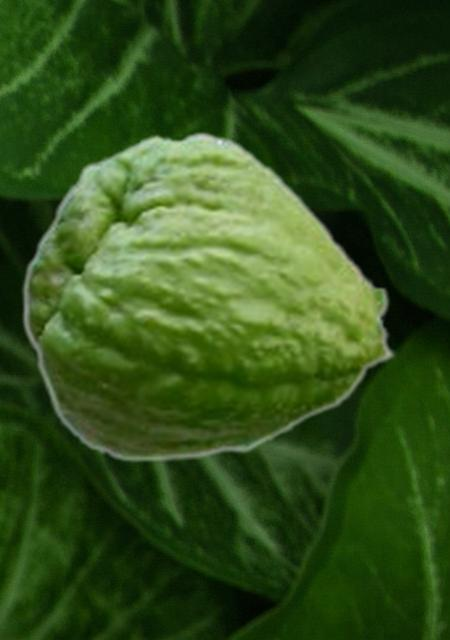sayote: (21, 130, 397, 463)
